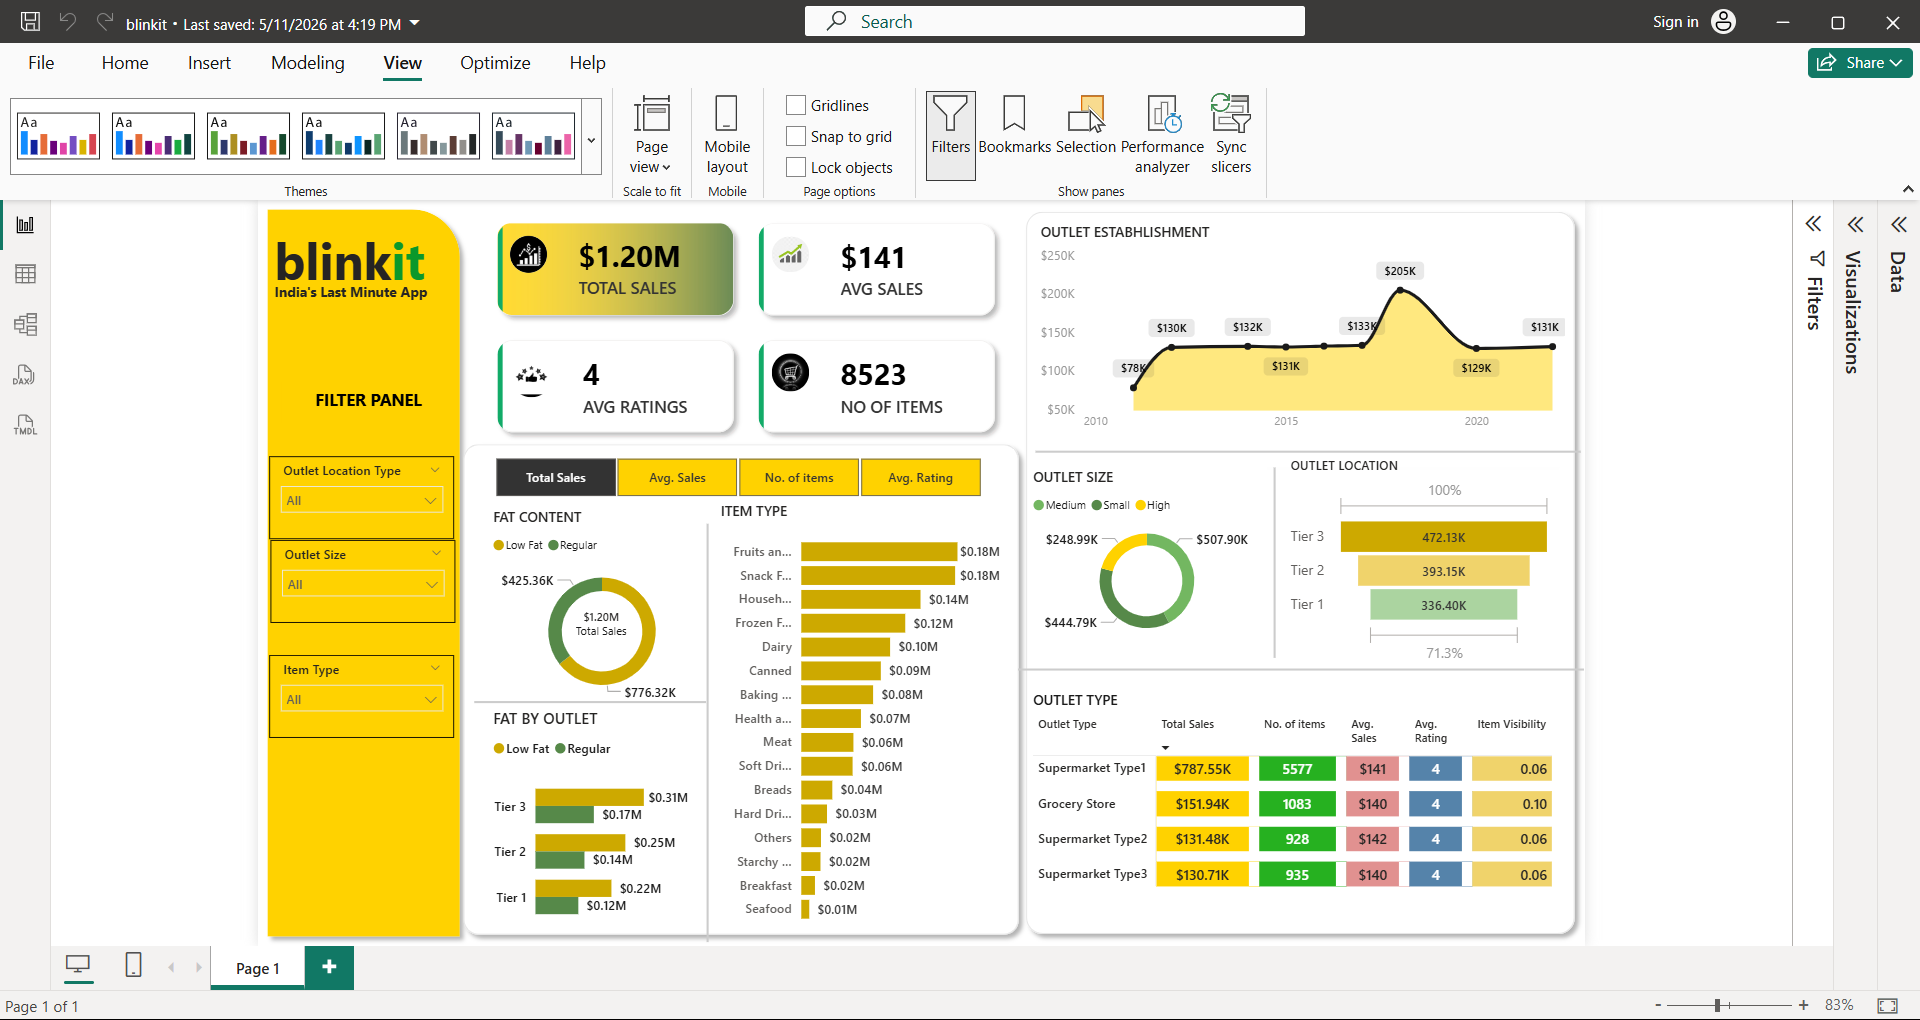

This screenshot's page, from the dashboard's own definition file:
{"tool":"powerbi","page":{"name":"Page 1","canvas":[1280,720],"ordinal":0},"visuals":[{"type":"shape","box":[0,0,203.8,720],"z":0},{"type":"textbox","box":[11.2,20,166.2,83.8],"z":1000},{"type":"textbox","box":[11.2,75,165,28.8],"z":2000},{"type":"cardVisual","fields":{"Data":["BlinkIT Grocery Data.Total Sales","BlinkIT Grocery Data.Avg. Sales","BlinkIT Grocery Data.Avg. Rating","BlinkIT Grocery Data.No. of items"]},"box":[208.8,0,525,246.2],"z":3000},{"type":"shape","box":[190,226.2,553.8,491.2],"z":4000},{"type":"donutChart","title":"FAT CONTENT","fields":{"Y":["BlinkIT Grocery Data.Total Sales"],"Category":["BlinkIT Grocery Data.Item Fat Content"]},"box":[221.7,296.4,220.5,194],"z":5000},{"type":"slicer","fields":{"Values":["Metrics.Metrics"]},"box":[203.8,242.5,517.5,50],"z":6000},{"type":"cardVisual","fields":{"Data":["BlinkIT Grocery Data.Total Sales"]},"box":[253.8,317.5,156.2,182.5],"z":7000},{"type":"clusteredBarChart","title":"FAT BY OUTLET","fields":{"Y":["BlinkIT Grocery Data.Total Sales"],"Category":["BlinkIT Grocery Data.Outlet Location Type"],"Series":["BlinkIT Grocery Data.Item Fat Content"]},"box":[221.7,490.4,198.8,224.1],"z":8000},{"type":"shape","box":[773.8,255,482.5,11.2],"z":9000},{"type":"shape","box":[782.5,241.2,473.8,33.8],"z":10000},{"type":"barChart","title":"ITEM TYPE","fields":{"Y":["BlinkIT Grocery Data.Total Sales"],"Category":["BlinkIT Grocery Data.Item Type"]},"box":[441.2,291.2,280,417.5],"z":11000},{"type":"shape","box":[732.5,2.5,547.5,715],"z":12000},{"type":"lineChart","title":"OUTLET ESTABHLISHMENT","fields":{"Y":["BlinkIT Grocery Data.Total Sales"],"Category":["BlinkIT Grocery Data.Outlet Establishment Year"]},"box":[750,21.2,516.2,208.8],"z":13000},{"type":"shape","box":[427.5,312.5,13.8,403.8],"z":14000},{"type":"donutChart","title":"OUTLET SIZE ","fields":{"Y":["BlinkIT Grocery Data.Total Sales"],"Category":["BlinkIT Grocery Data.Outlet Size"]},"box":[743.8,258.8,230,173.8],"z":15000},{"type":"shape","box":[971.2,258.8,20,183.8],"z":16000},{"type":"shape","box":[208.8,478.8,223.8,11.2],"z":17000},{"type":"funnel","title":"OUTLET LOCATION","fields":{"Category":["BlinkIT Grocery Data.Outlet Location Type"],"Y":["Sum(BlinkIT Grocery Data.Sales)"]},"box":[991.2,247.5,262.5,205],"z":18000},{"type":"shape","box":[750,230,526.2,25],"z":19000},{"type":"shape","box":[766.2,478.8,490,11.2],"z":20000},{"type":"pivotTable","title":"OUTLET TYPE","fields":{"Rows":["BlinkIT Grocery Data.Outlet Type"],"Values":["BlinkIT Grocery Data.Total Sales","BlinkIT Grocery Data.No. of items","BlinkIT Grocery Data.Avg. Sales","BlinkIT Grocery Data.Avg. Rating","Avg(BlinkIT Grocery Data.Item Visibility)"]},"box":[743.8,472.5,513.8,208.8],"z":21000},{"type":"shape","box":[733.8,448.8,546.2,8.8],"z":22000},{"type":"slicer","fields":{"Values":["BlinkIT Grocery Data.Outlet Location Type"]},"box":[10.9,247.3,178.6,79.6],"z":23000},{"type":"slicer","fields":{"Values":["BlinkIT Grocery Data.Outlet Size"]},"box":[12.5,328.8,178.8,80],"z":24000},{"type":"slicer","fields":{"Values":["BlinkIT Grocery Data.Item Type"]},"box":[11.2,438.8,178.8,80],"z":25000},{"type":"textbox","box":[22.5,176.2,167.5,38.8],"z":26000}]}

Visuals, with their boxes on the page's 1280x720 design canvas (x1, y1, x2, y2). These are canvas units, not pixel positions in the 1920x1020 screenshot, which may show the page scaled, cropped or inside an application window:
shape: [left=0, top=0, right=204, bottom=720]
textbox: [left=11, top=20, right=177, bottom=104]
textbox: [left=11, top=75, right=176, bottom=104]
cardVisual - BlinkIT Grocery Data.Total Sales x BlinkIT Grocery Data.Avg. Sales: [left=209, top=0, right=734, bottom=246]
shape: [left=190, top=226, right=744, bottom=717]
"FAT CONTENT" donutChart: [left=222, top=296, right=442, bottom=490]
slicer - Metrics.Metrics: [left=204, top=242, right=721, bottom=292]
cardVisual - BlinkIT Grocery Data.Total Sales: [left=254, top=318, right=410, bottom=500]
"FAT BY OUTLET" clusteredBarChart: [left=222, top=490, right=420, bottom=714]
shape: [left=774, top=255, right=1256, bottom=266]
shape: [left=782, top=241, right=1256, bottom=275]
"ITEM TYPE" barChart: [left=441, top=291, right=721, bottom=709]
shape: [left=732, top=2, right=1280, bottom=718]
"OUTLET ESTABHLISHMENT" lineChart: [left=750, top=21, right=1266, bottom=230]
shape: [left=428, top=312, right=441, bottom=716]
"OUTLET SIZE " donutChart: [left=744, top=259, right=974, bottom=433]
shape: [left=971, top=259, right=991, bottom=443]
shape: [left=209, top=479, right=433, bottom=490]
"OUTLET LOCATION" funnel: [left=991, top=248, right=1254, bottom=452]
shape: [left=750, top=230, right=1276, bottom=255]
shape: [left=766, top=479, right=1256, bottom=490]
"OUTLET TYPE" pivotTable: [left=744, top=472, right=1258, bottom=681]
shape: [left=734, top=449, right=1280, bottom=458]
slicer - BlinkIT Grocery Data.Outlet Location Type: [left=11, top=247, right=190, bottom=327]
slicer - BlinkIT Grocery Data.Outlet Size: [left=12, top=329, right=191, bottom=409]
slicer - BlinkIT Grocery Data.Item Type: [left=11, top=439, right=190, bottom=519]
textbox: [left=22, top=176, right=190, bottom=215]
